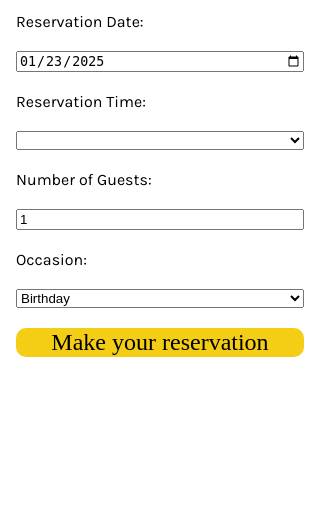
Test: Occasion Validation › Required occasion validation
Select "" in the dropdown labelled "Occasion:": (160, 299) left=16, top=289, right=304, bottom=308
Click the button "Make your reservation": click(160, 343) left=16, top=328, right=304, bottom=357
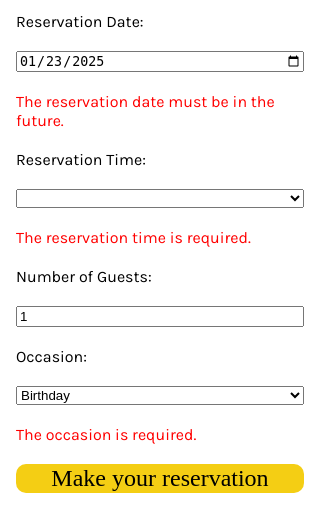
expect the text "The occasion is required." is shown: met, box left=16, top=425, right=196, bottom=444
